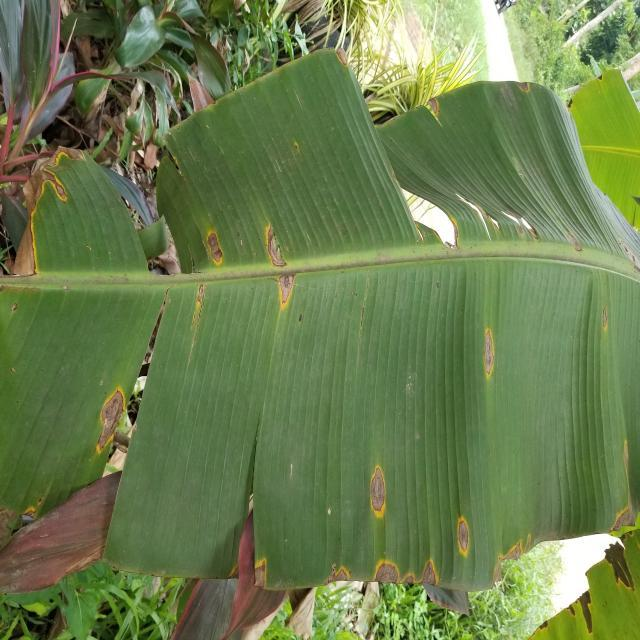Early_rust: (305, 428, 475, 613), (481, 472, 640, 599), (2, 93, 106, 280), (176, 219, 323, 345), (434, 276, 524, 394), (59, 370, 148, 465), (230, 518, 289, 595), (0, 473, 66, 536), (307, 25, 354, 100), (410, 71, 453, 138), (509, 63, 539, 120)
